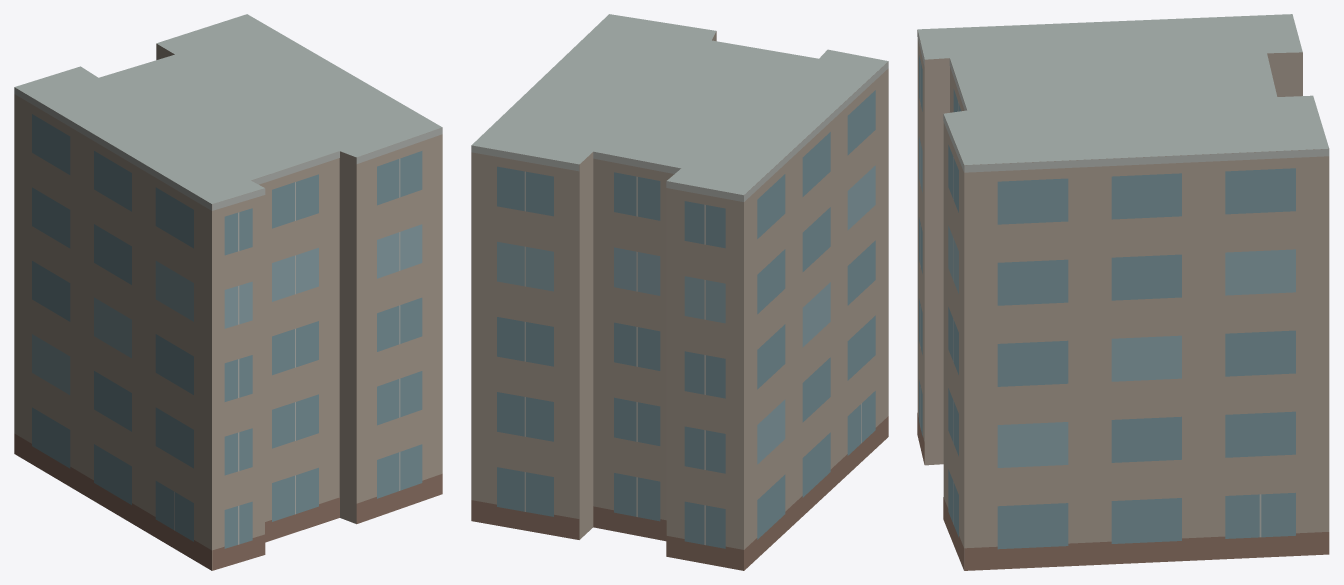
Rendered from survey-upis-32933636.glb.
The picture shows the model from 3 angles, left to right: view 1: azimuth 30°, elevation 25°; view 2: azimuth 150°, elevation 25°; view 3: azimuth 270°, elevation 25°; orthographic projection. The views are drawn at different scales.
Visible parts, largest first — view 1: survey-upis-32933636.tmp; view 2: survey-upis-32933636.tmp; view 3: survey-upis-32933636.tmp.
Boxes of the visible parts, bbox=[...] form: survey-upis-32933636.tmp: bbox=[14, 14, 442, 570]; survey-upis-32933636.tmp: bbox=[471, 14, 888, 570]; survey-upis-32933636.tmp: bbox=[917, 14, 1329, 570].
Bounding box in the file's own units: 10.52 × 13.15 × 12.11.
